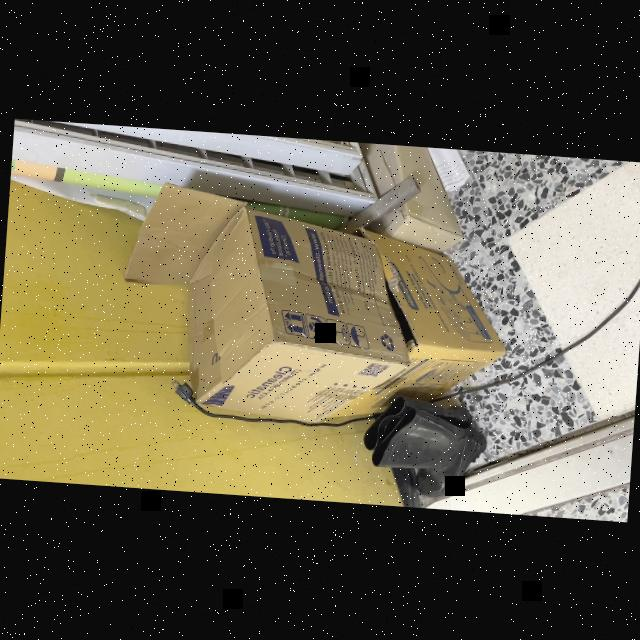cardboard_box: (106, 174, 420, 432), (324, 226, 510, 434)
